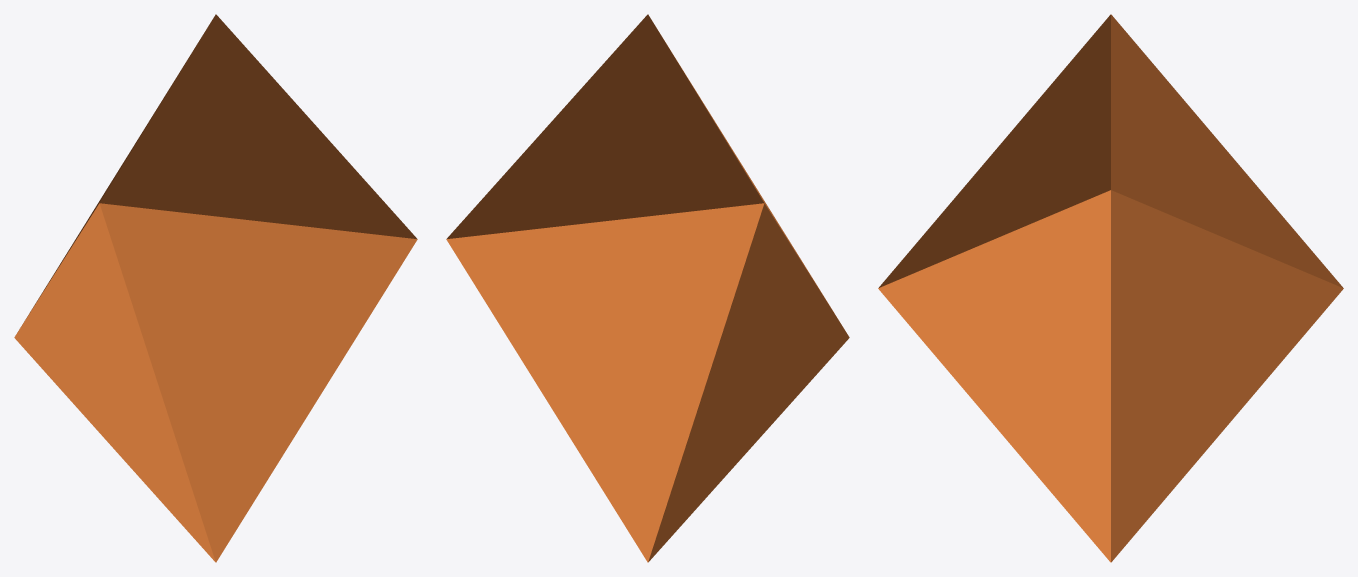
Rendered from inferno-lion.glb.
3 views of the same model, side by side, from view 1: azimuth 30°, elevation 25°; view 2: azimuth 150°, elevation 25°; view 3: azimuth 270°, elevation 25° (orthographic).
Bounding box in the file's own units: 2 × 2.6 × 2.
